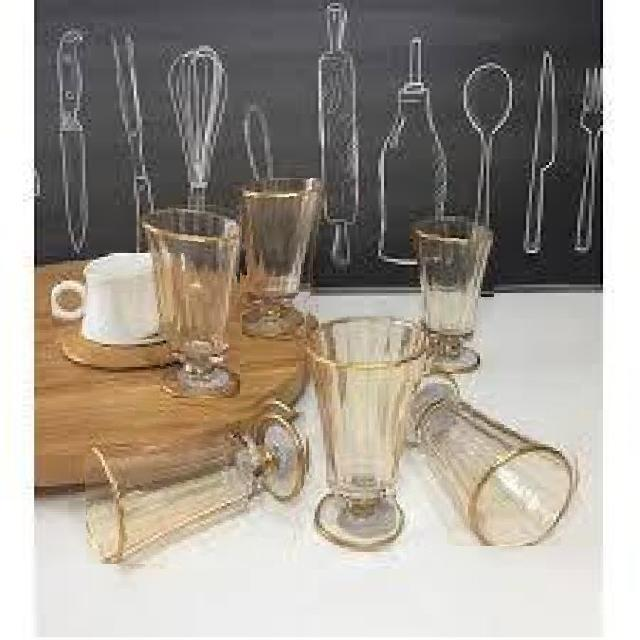Glass: (86, 396, 314, 564), (396, 372, 581, 546), (306, 316, 426, 552), (144, 199, 240, 398), (410, 216, 494, 374), (242, 178, 322, 342), (52, 253, 184, 344)
